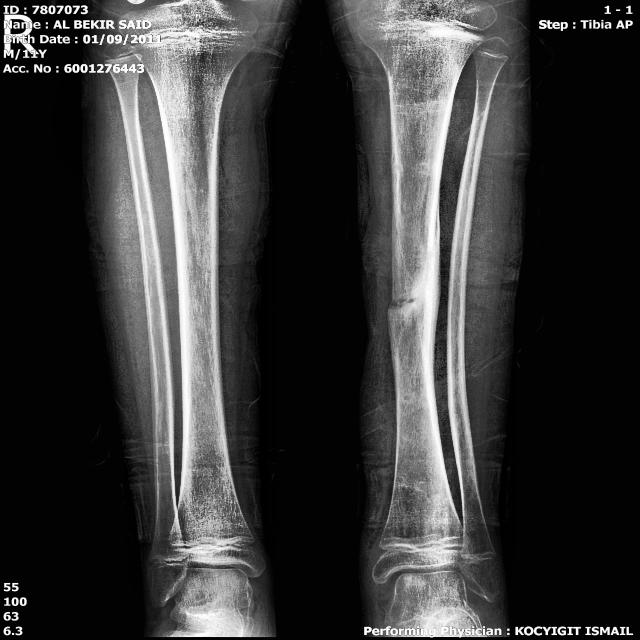Fracture: (378, 267, 420, 328)
